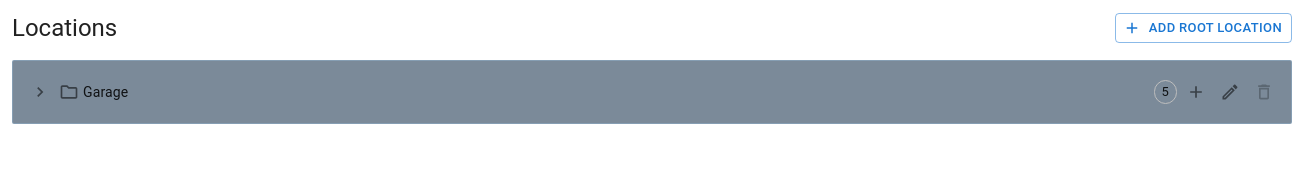
Test: LocationsPage › renders a seeded tree nested with counts, and expand/collapse toggles children
expect the link "Garage" is shown: met, box x1=83 y1=84 x2=128 y2=100
expect the element named "5 items" is shown: met, box x1=1154 y1=80 x2=1177 y2=104
Click the button named "Expand Garage".
click(40, 92)  # box x1=25 y1=77 x2=55 y2=107
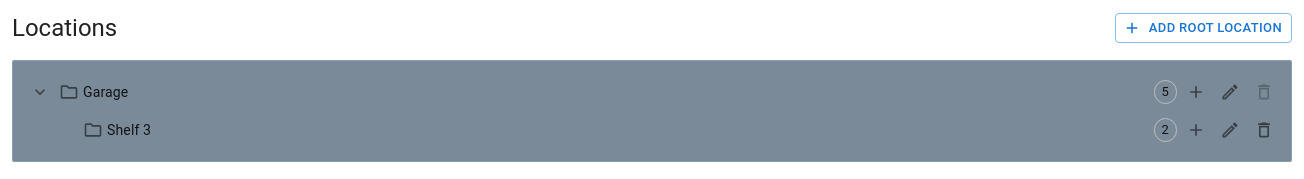
expect the link "Shelf 3" is shown: met, box x1=107 y1=122 x2=151 y2=138
expect the element named "2 items" is shown: met, box x1=1154 y1=118 x2=1177 y2=142
Click the button named "Collapse Garage".
click(40, 92)  # box x1=25 y1=77 x2=55 y2=107
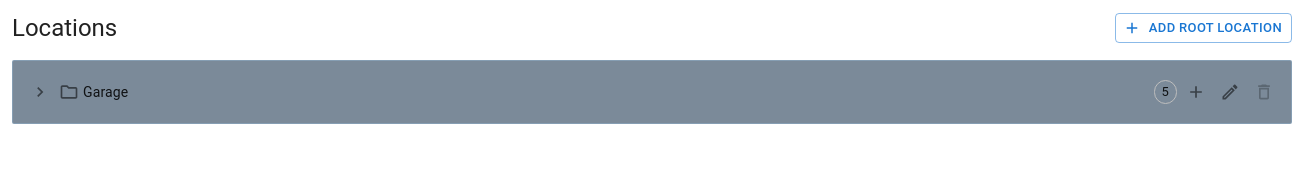
expect the link "Shelf 3" is gone: met
